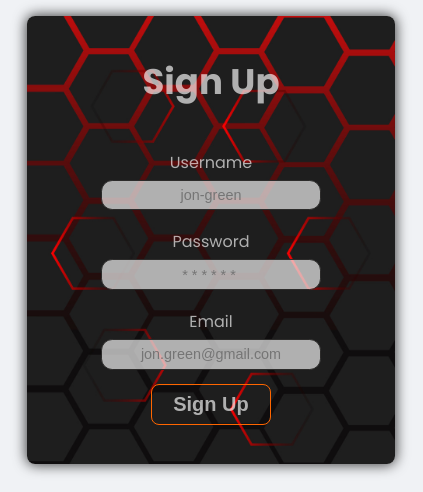
Testing SignUp validation messages functionality › Password input should have more than four characters
The image size is (423, 492).
Type "111" into the password field labelled "Password" at (211, 275), box [101, 259, 321, 290]
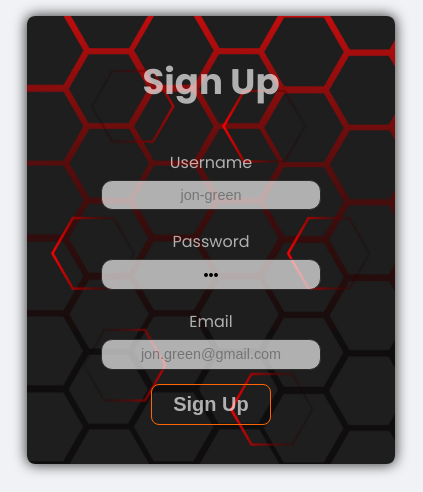
Leave the password field labelled "Password", box [101, 259, 321, 290]
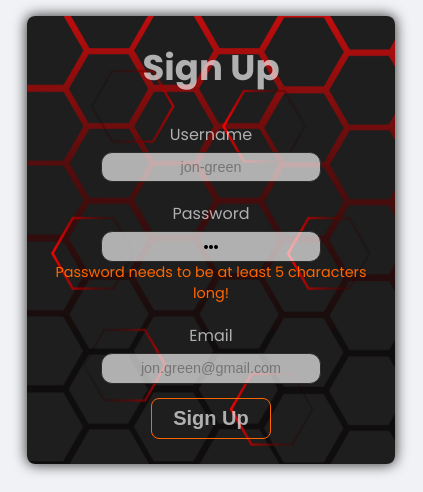
Expected: the text "Password needs to be at least 5 characters long!" is shown, [37, 262, 385, 304]
